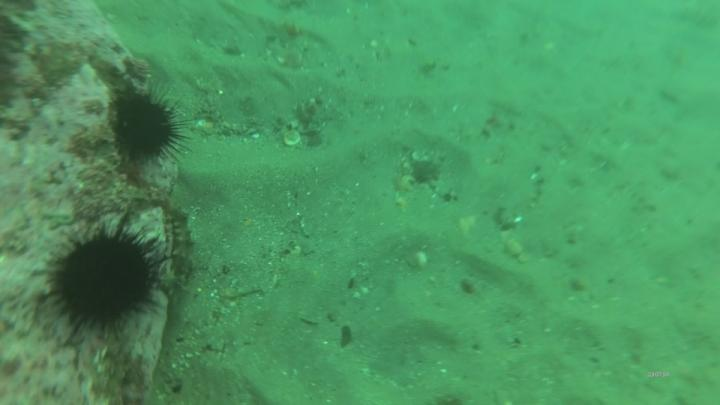echinus: (51, 231, 154, 336), (111, 85, 181, 174)
holothurian: (168, 206, 195, 281)
